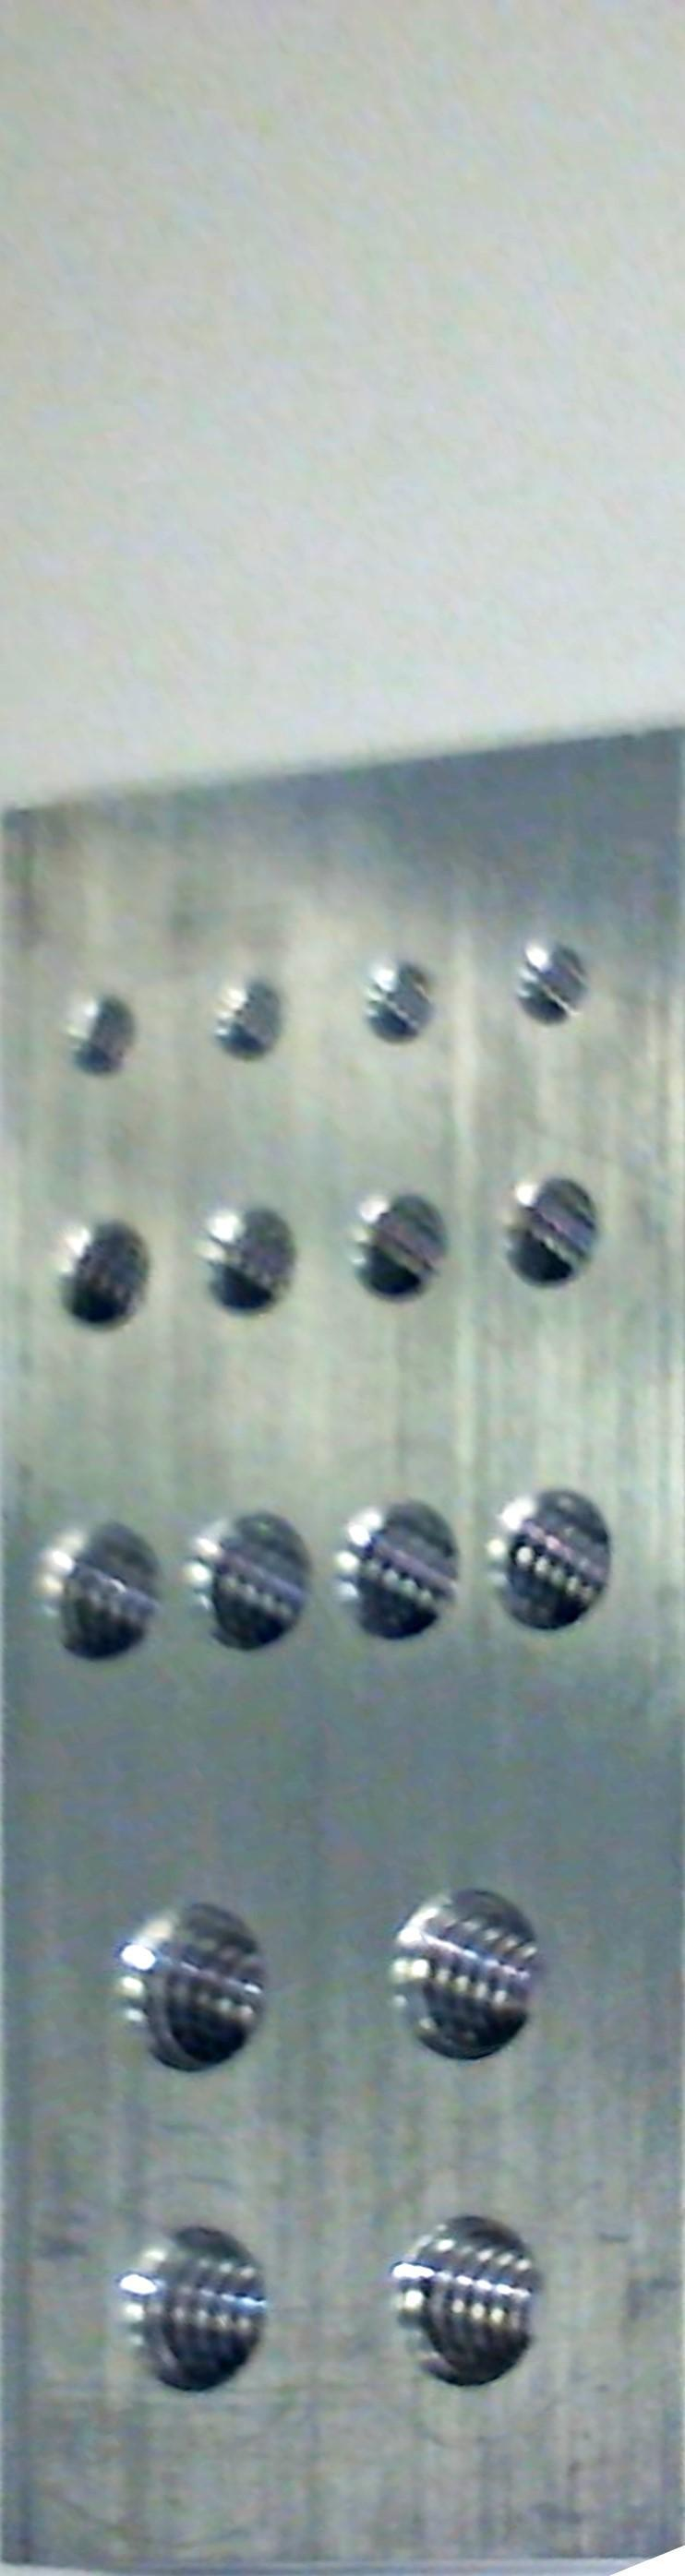hole: (89, 1865, 292, 2091), (100, 2206, 281, 2420), (379, 2200, 565, 2407), (366, 1876, 559, 2065), (476, 1477, 631, 1651), (30, 1508, 161, 1689), (330, 1493, 467, 1661), (186, 1492, 315, 1664), (176, 1180, 312, 1331), (340, 1170, 463, 1322), (493, 1155, 609, 1309), (53, 1211, 172, 1344), (197, 968, 299, 1076), (53, 987, 145, 1084), (352, 951, 442, 1050), (509, 936, 600, 1028)
